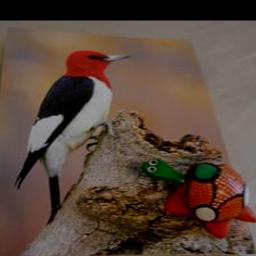Woodpecker: (13, 47, 130, 225)
